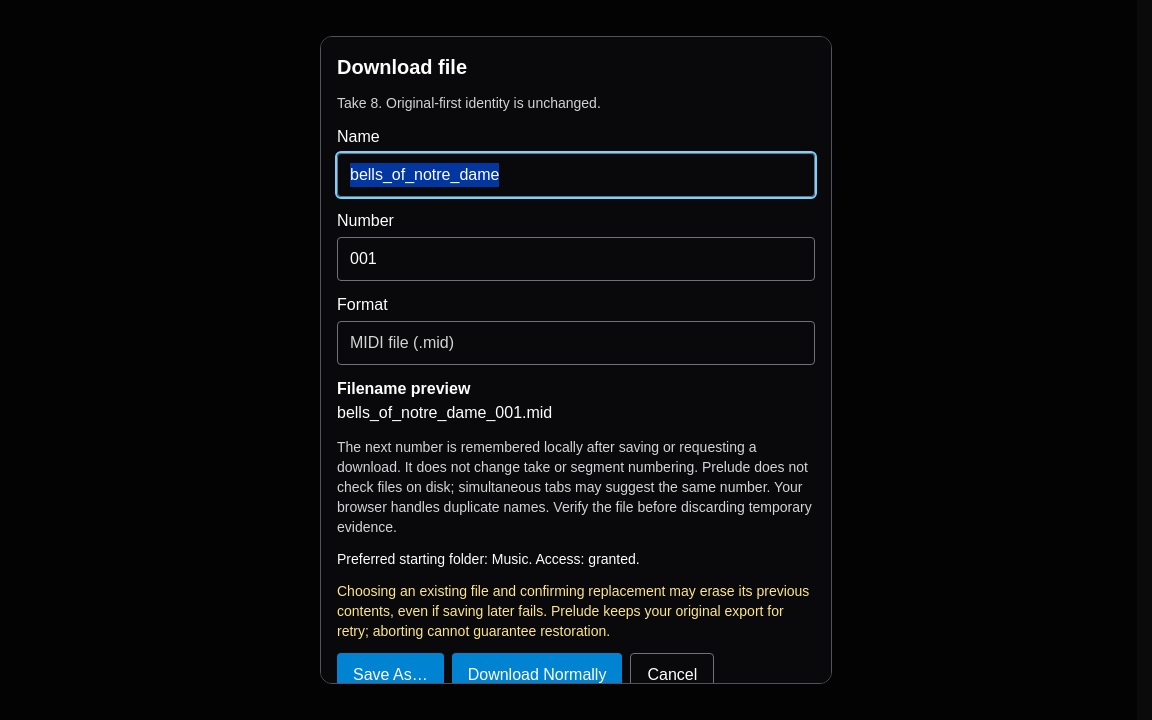
Test: shared native destinations › acknowledges only after close, advances the submitted identity despite native renaming, and fences duplicates
The width and height of the screenshot is (1152, 720).
Click the button "Save As…" at (390,675), box top-left (337, 653), bottom-right (444, 697)
(page scrolled)
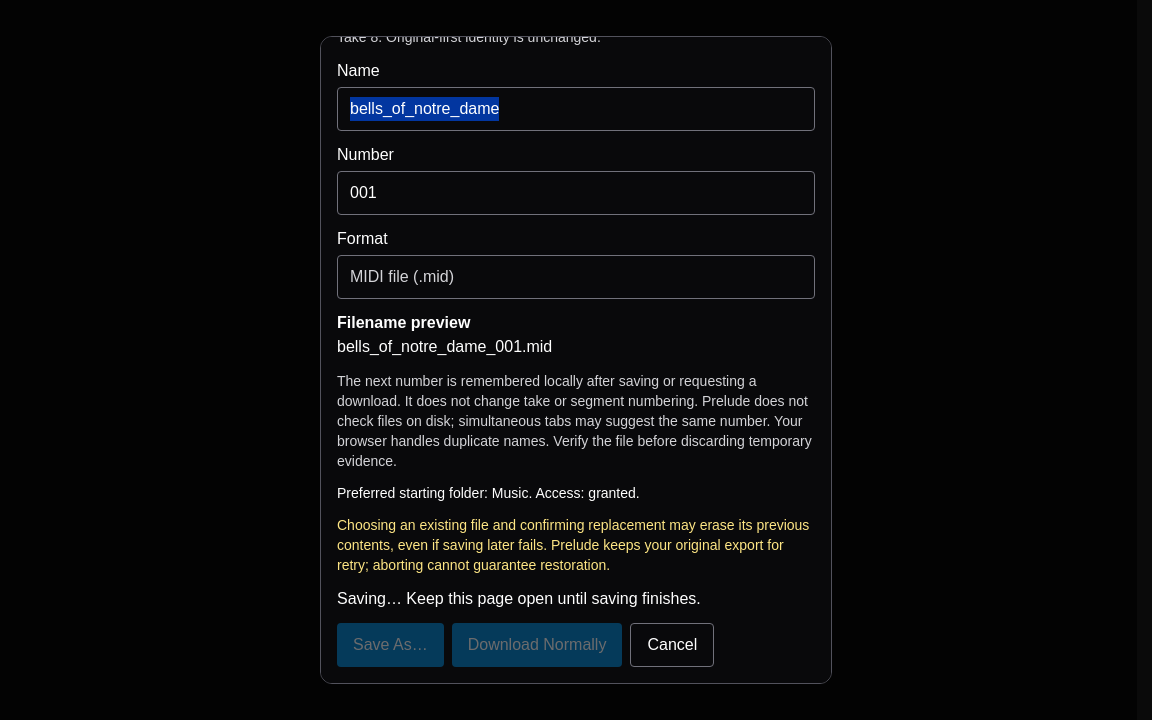
Click the button "Save As…" at (390,645), box top-left (337, 623), bottom-right (444, 667)
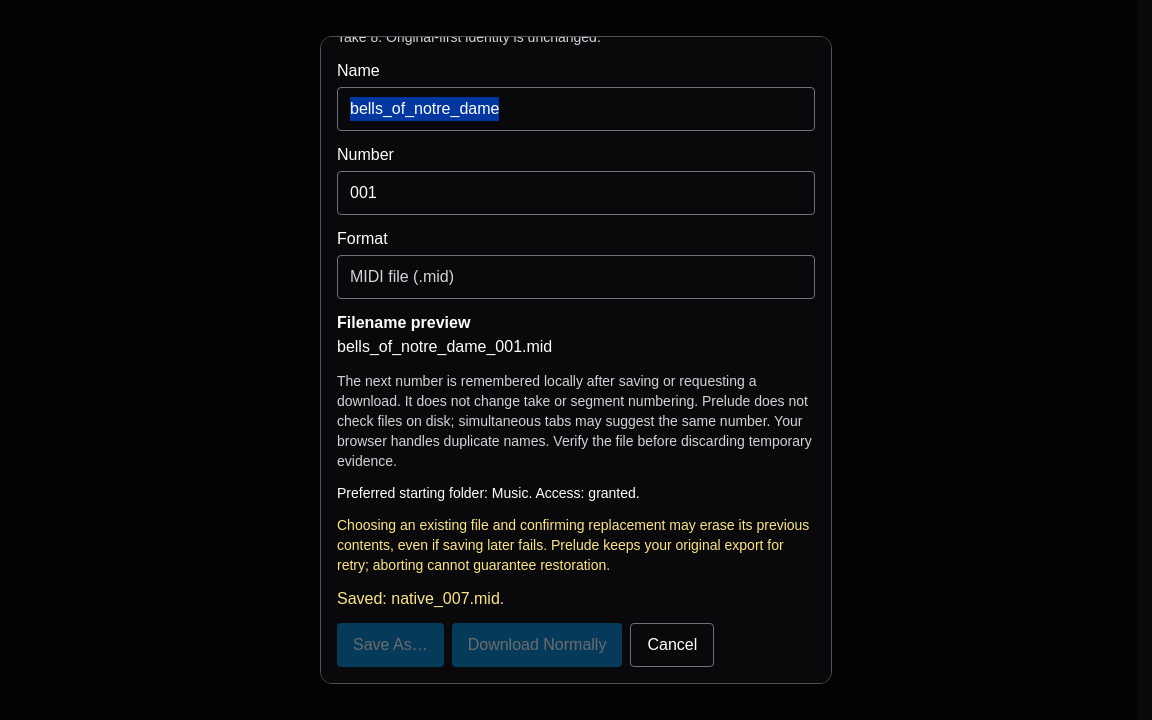
Check: the text "Saved: native_007.mid." is shown, box top-left (337, 590), bottom-right (504, 607)
